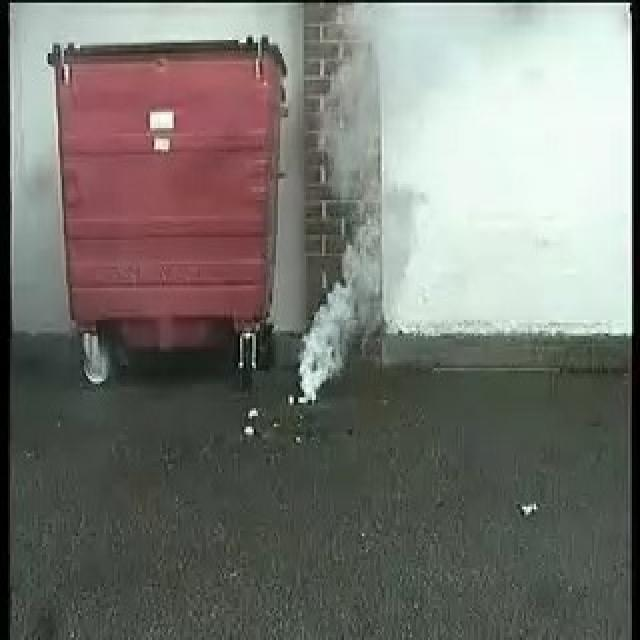smoke: (298, 47, 394, 398)
